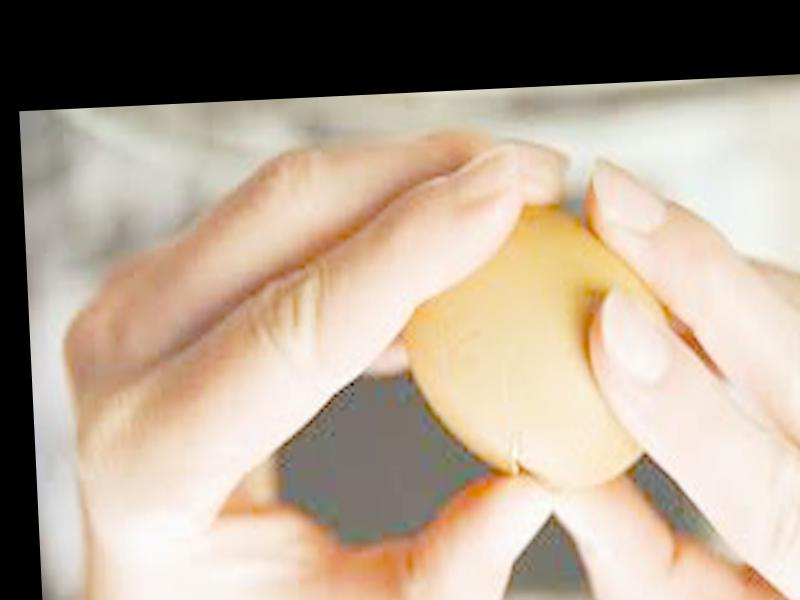Eggs: (399, 194, 677, 499)
